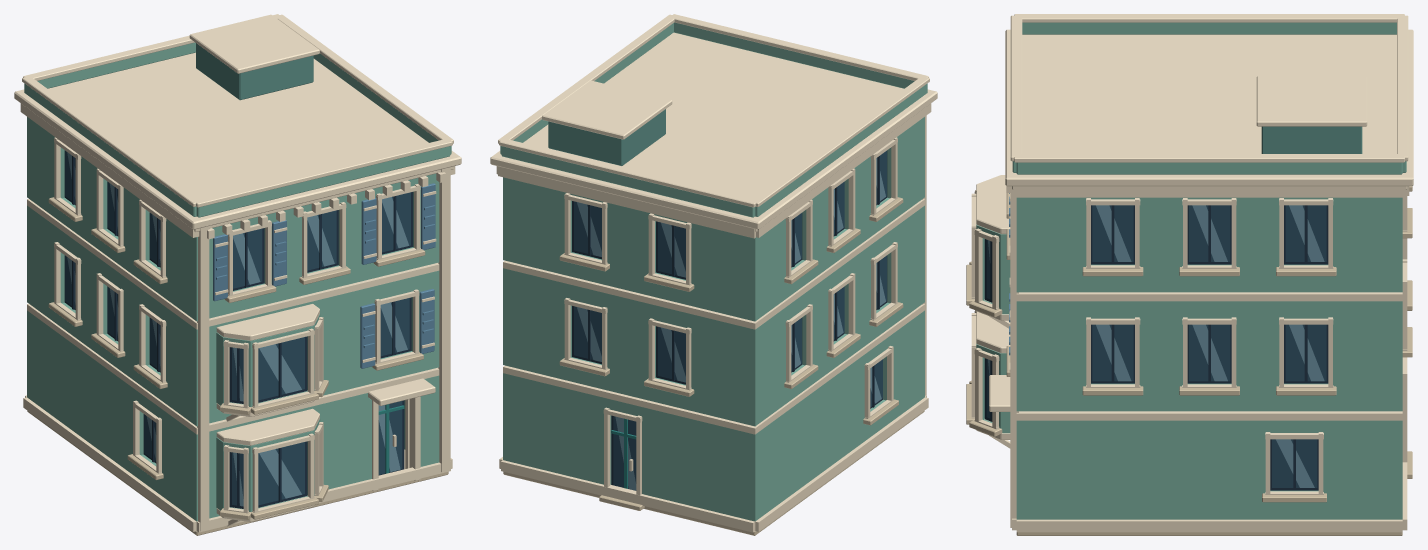
Rendered from bay_window_house.glb.
The picture shows the model from 3 angles, left to right: view 1: azimuth 30°, elevation 25°; view 2: azimuth 150°, elevation 25°; view 3: azimuth 270°, elevation 25°; orthographic projection. The views are drawn at different scales.
Parts seen in each view (by area): view 1: BayWindowHouse_StaticMesh; view 2: BayWindowHouse_StaticMesh; view 3: BayWindowHouse_StaticMesh.
Part boxes in pixels (bbox=[...]): BayWindowHouse_StaticMesh: bbox=[14, 14, 461, 535]; BayWindowHouse_StaticMesh: bbox=[490, 14, 937, 535]; BayWindowHouse_StaticMesh: bbox=[966, 14, 1413, 535].
Size of the model in its own units: 8.32 by 10.45 by 10.55.
